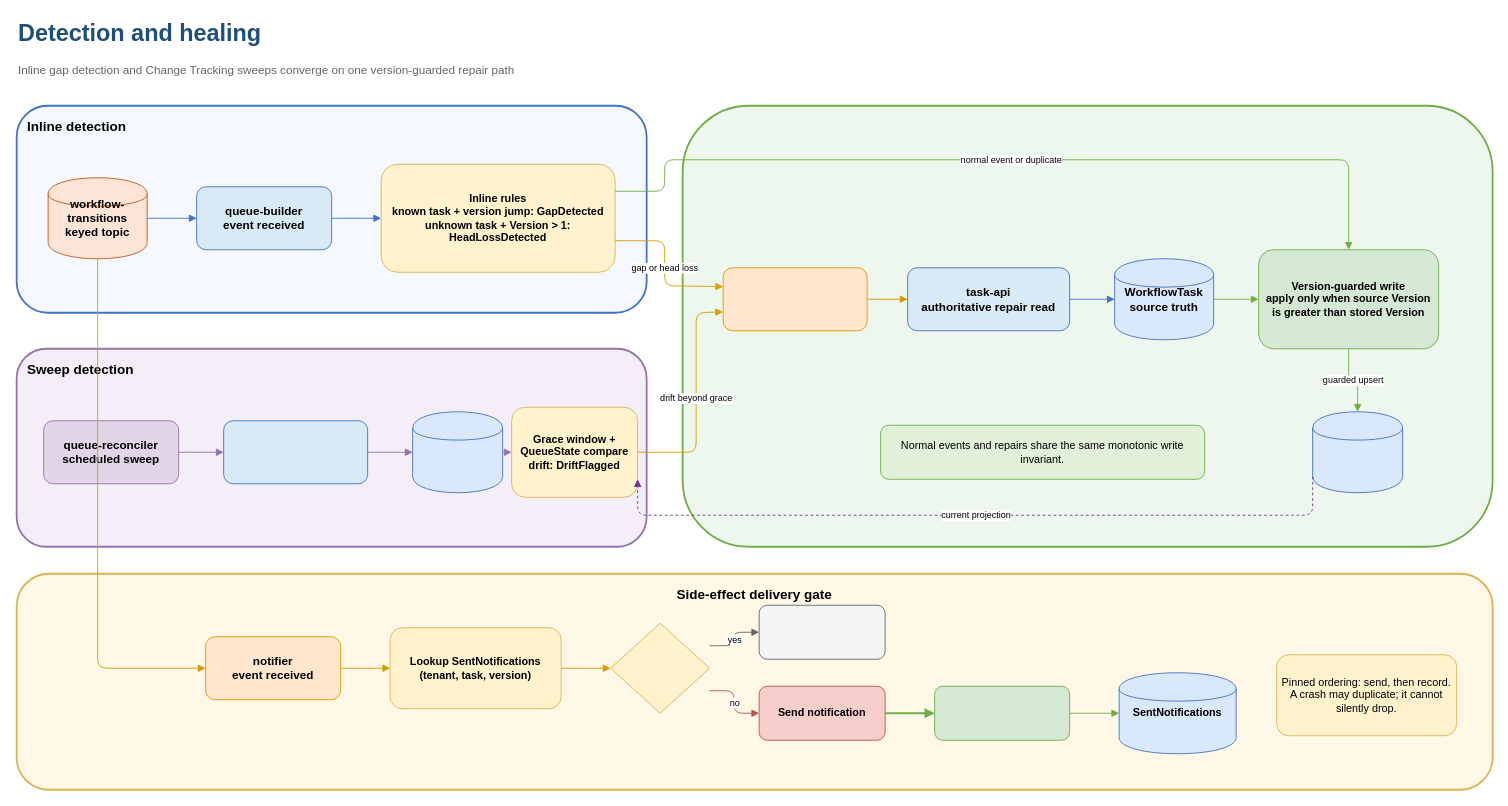
The diagram is 1508 pixels wide and 806 high, and some of its shapes have lost their labels. Here are the shapes that lost their labels. From the top down, the box of each, then its label:
(722, 267, 867, 331): Repair requested token-bucket limited
(681, 104, 1493, 547): Shared healing path
(223, 420, 368, 484): task-api Change Tracking feed
(412, 411, 503, 493): WorkflowTask Change Tracking
(1312, 411, 1403, 493): QueueState
(758, 604, 885, 659): Skip duplicate
(610, 622, 710, 713): Already recorded?
(934, 685, 1070, 740): Then record send
